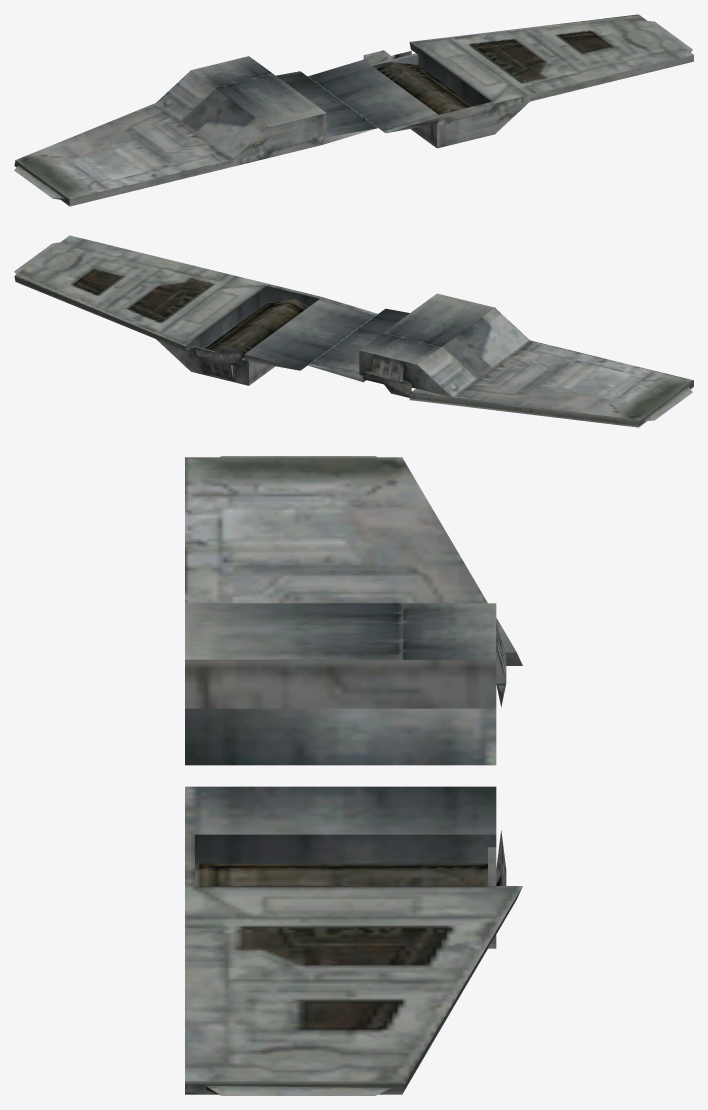
The model's file is xwing_wing_pos_l1.fbx.
3 renders of one model, top to bottom at view 1: azimuth 30°, elevation 25°; view 2: azimuth 150°, elevation 25°; view 3: azimuth 270°, elevation 25°, orthographic. The views are drawn at different scales.
Parts seen in each view (by area): view 1: mesh_node; view 2: mesh_node; view 3: mesh_node.
Boxes of the visible parts, <box> form: mesh_node: <box>14,14,693,206</box>; mesh_node: <box>14,235,693,427</box>; mesh_node: <box>185,456,522,1095</box>.
Size of the model in its own units: 13.31 by 1.24 by 3.04.
1 material, 1 textured.
